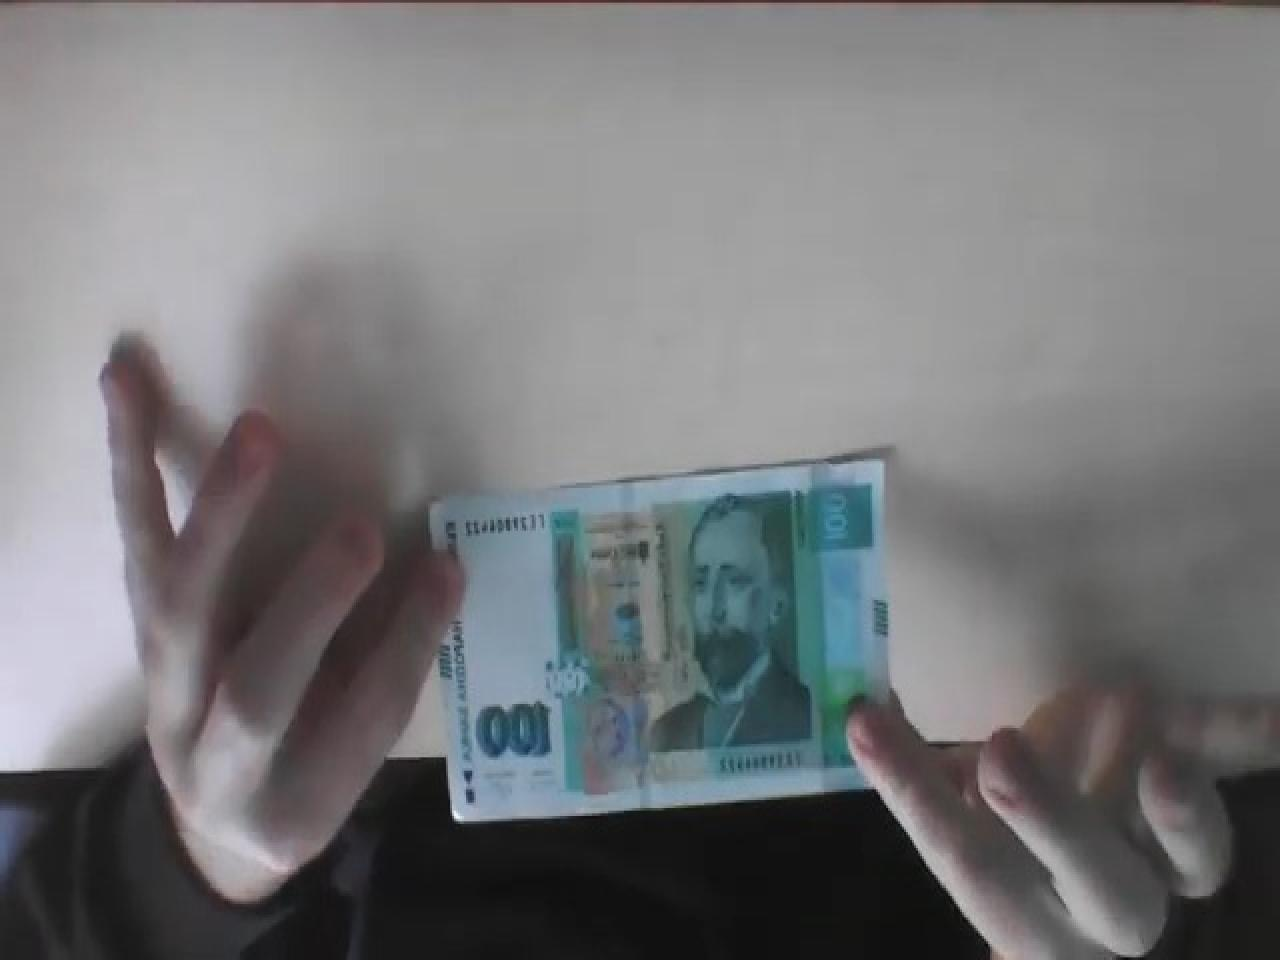100leva: (424, 451, 894, 821)
